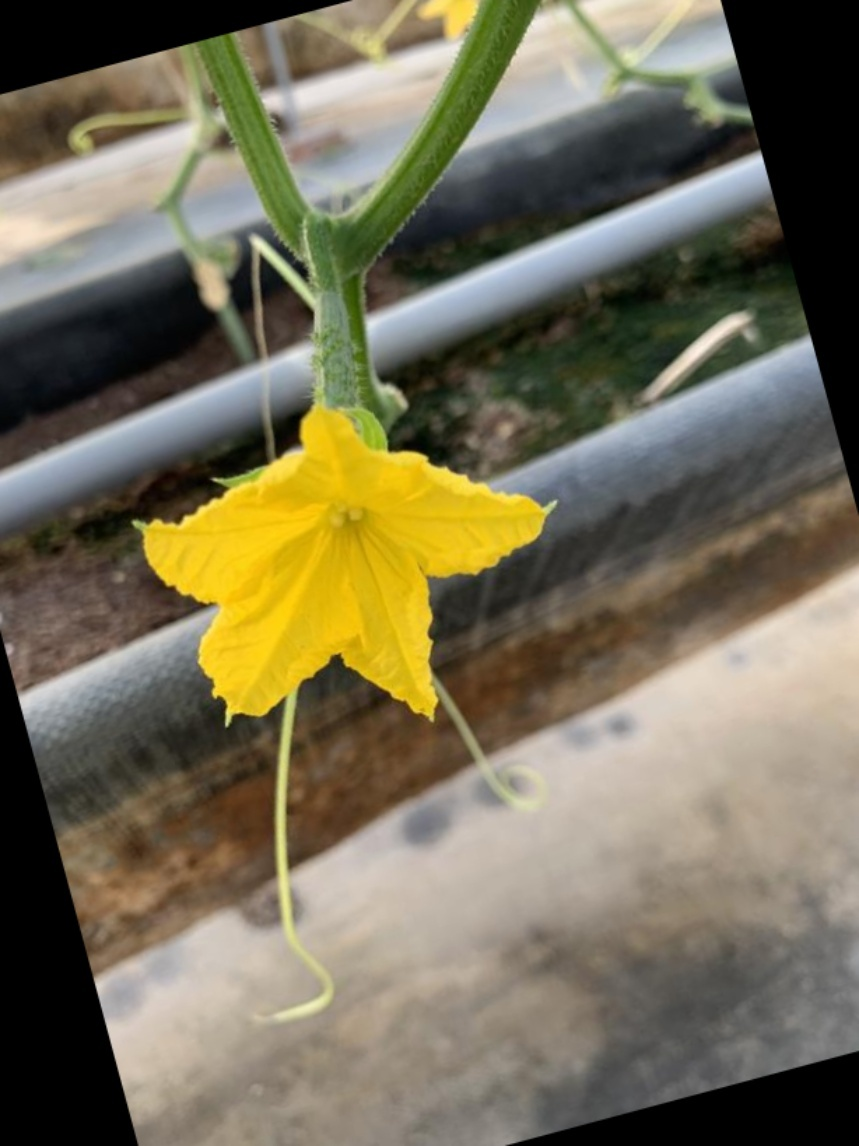flowering: (115, 264, 549, 741)
mature: (113, 263, 552, 740)
